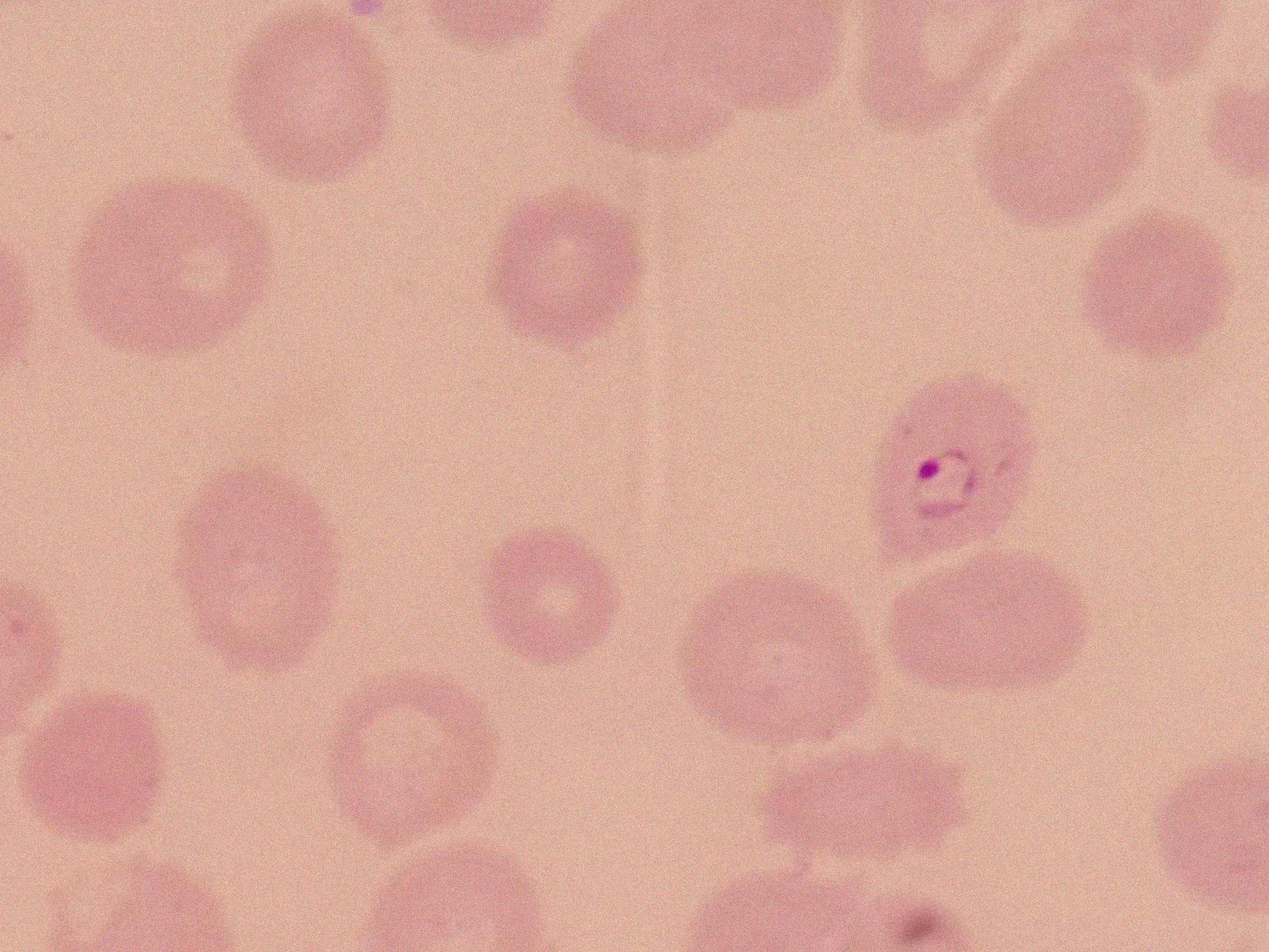Infected: (864, 375, 1033, 557)
Uninfected: (69, 174, 270, 362), (682, 568, 878, 742), (178, 463, 335, 668), (975, 43, 1142, 226), (330, 669, 502, 840), (886, 550, 1085, 689), (562, 4, 734, 160), (233, 17, 383, 184), (762, 739, 964, 860), (489, 185, 640, 346), (1079, 208, 1229, 355), (853, 0, 1015, 131), (21, 692, 160, 840), (365, 840, 544, 952), (481, 526, 621, 666), (1152, 755, 1269, 911)
